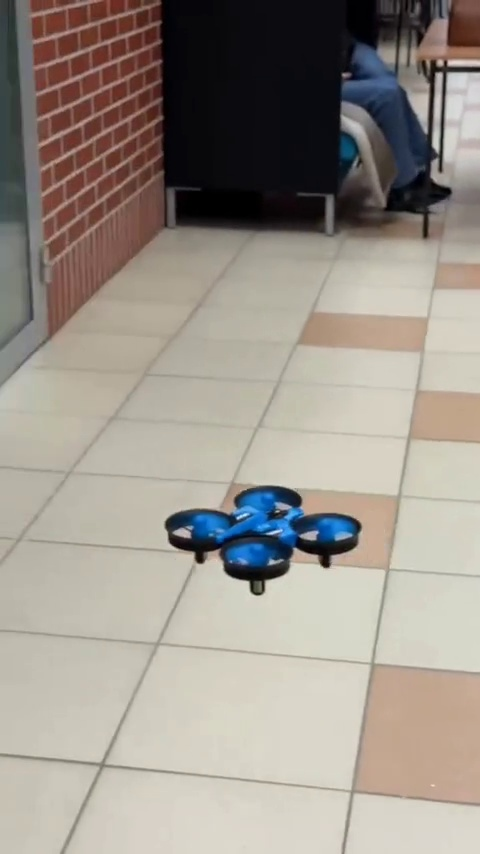drone: (167, 482, 363, 583)
